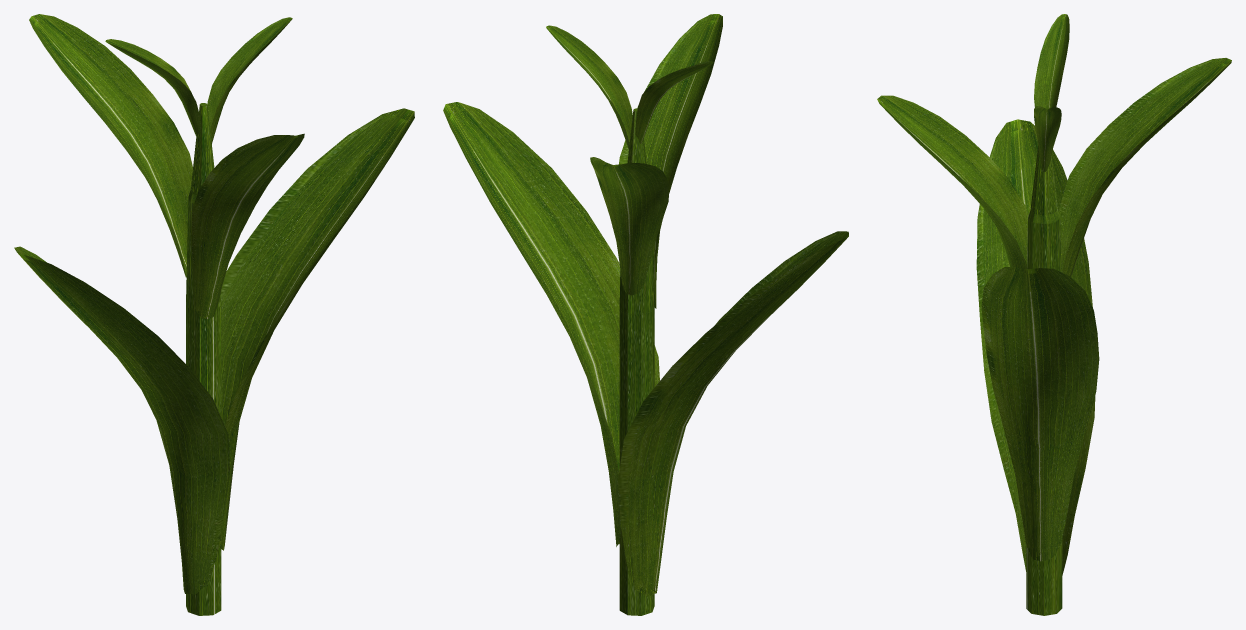
The model's file is CornStage2.fbx.
The picture shows the model from 3 angles, left to right: view 1: azimuth 30°, elevation 25°; view 2: azimuth 150°, elevation 25°; view 3: azimuth 270°, elevation 25°; orthographic projection. The views are drawn at different scales.
Visible parts, largest first — view 1: Plane, Plane.001, Plane.002, Plane.003, Cylinder, Plane.005, Plane.004; view 2: Plane, Plane.001, Plane.003, Cylinder, Plane.002, Plane.005, Plane.004; view 3: Plane, Plane.002, Plane.001, Plane.003, Cylinder, Plane.004, Plane.005.
Part boxes in pixels (left/top/right/bottom): Plane: left=218, top=108, right=414, bottom=550; Plane.001: left=14, top=246, right=229, bottom=594; Plane.002: left=29, top=14, right=192, bottom=277; Plane.003: left=191, top=133, right=304, bottom=319; Cylinder: left=186, top=103, right=221, bottom=615; Plane.005: left=207, top=17, right=292, bottom=143; Plane.004: left=105, top=39, right=201, bottom=136; Plane: left=443, top=102, right=659, bottom=546; Plane.001: left=618, top=231, right=848, bottom=596; Plane.003: left=618, top=14, right=722, bottom=308; Cylinder: left=619, top=108, right=654, bottom=615; Plane.002: left=590, top=157, right=669, bottom=295; Plane.005: left=546, top=25, right=632, bottom=149; Plane.004: left=635, top=61, right=713, bottom=143; Plane: left=981, top=267, right=1099, bottom=561; Plane.002: left=1059, top=58, right=1231, bottom=276; Plane.001: left=976, top=119, right=1095, bottom=575; Plane.003: left=877, top=95, right=1028, bottom=268; Cylinder: left=1026, top=146, right=1062, bottom=615; Plane.004: left=1034, top=14, right=1069, bottom=108; Plane.005: left=1034, top=106, right=1061, bottom=172.
Size of the model in its own units: 81.52 by 112 by 65.18.
Materials: 2 (2 with a texture image).
